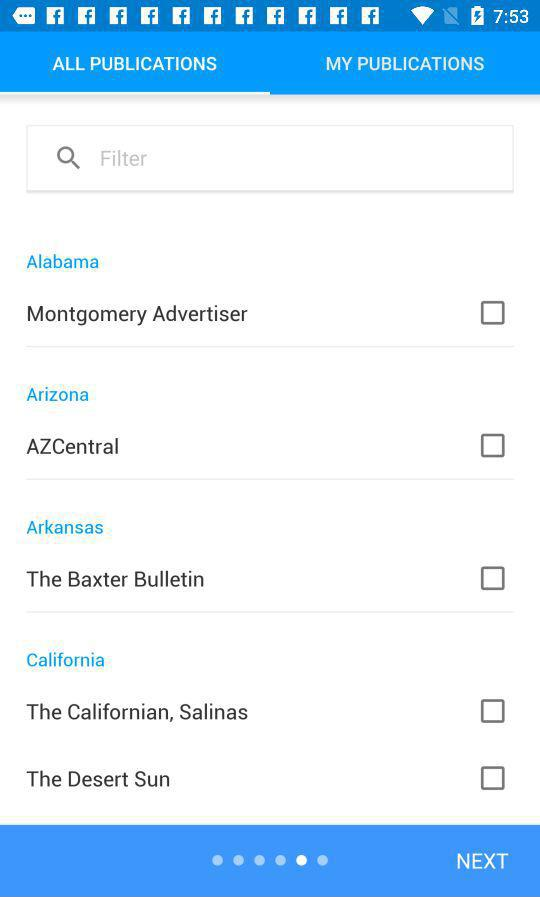CheckedTextView: (28, 300, 506, 327), (26, 698, 506, 724), (26, 765, 506, 791), (26, 433, 505, 459), (27, 565, 506, 591)
EditText: (25, 124, 515, 194)
Icon: (57, 146, 81, 171)
PageIndicator: (211, 853, 330, 868)
Text: (26, 701, 249, 723), (28, 305, 249, 327), (27, 569, 205, 588), (26, 769, 171, 788), (53, 57, 218, 73), (326, 56, 485, 72), (26, 437, 120, 456), (27, 651, 106, 668), (27, 519, 105, 536), (27, 254, 100, 270), (27, 386, 90, 403), (456, 852, 509, 871), (102, 150, 148, 167)
UpperTaskBar: (1, 1, 540, 33)
